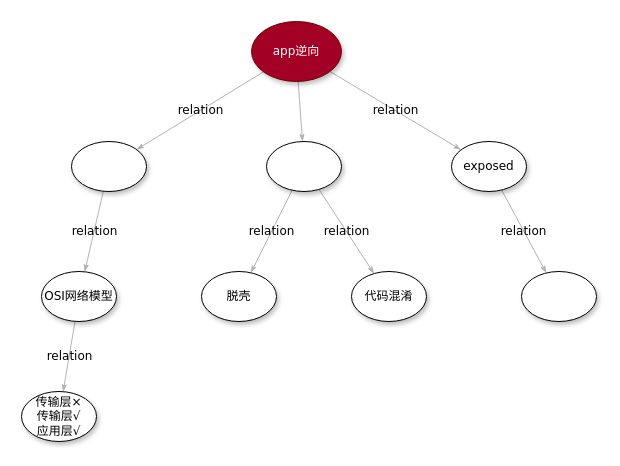
Some shapes in this 620 by 466 pixel diagram are drawn without their labels. Each missing label, with the centre of its shape:
java: the point at 559,297
反编译: the point at 305,167
抓包: the point at 109,167
